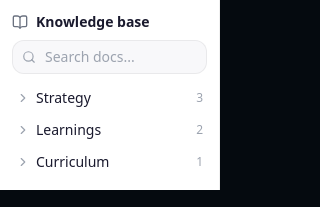
it: WikiSidebar › shows no matching docs message when query matches nothing
The image size is (320, 207).
In the field with placeholder "Search docs...": (110, 57) [12,40,207,74], type "zzzznonexistent"
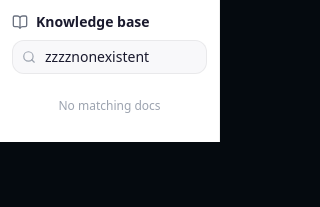
Result: the text "No matching docs" is shown at [58,97,160,114]
